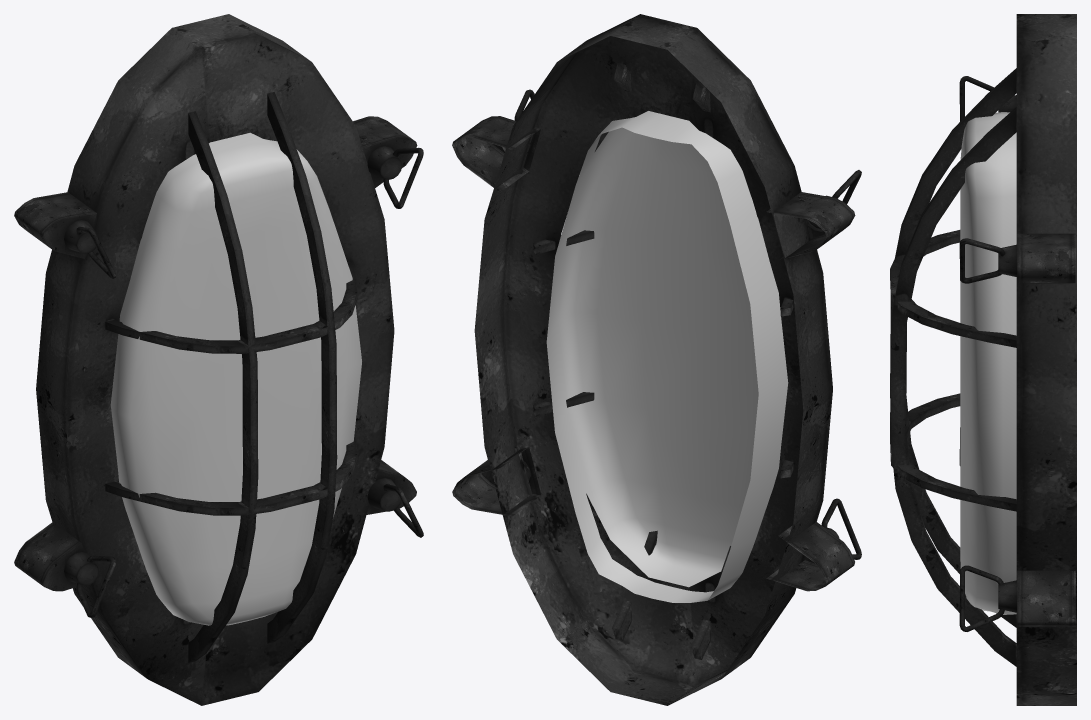
The model's file is CageLightGlow unity export.fbx.
3 views of the same model, side by side, from view 1: azimuth 30°, elevation 25°; view 2: azimuth 150°, elevation 25°; view 3: azimuth 270°, elevation 25° (orthographic).
Visible parts, largest first — view 1: CageLight_low (×2); view 2: CageLight_low (×2); view 3: CageLight_low (×2).
Boxes of the visible parts, x1,y1,x2,y2 form: CageLight_low (×2): (14, 14, 423, 705); CageLight_low (×2): (452, 14, 861, 705); CageLight_low (×2): (890, 14, 1076, 705).
Bounding box in the file's own units: 18.3 × 30.66 × 7.83.
